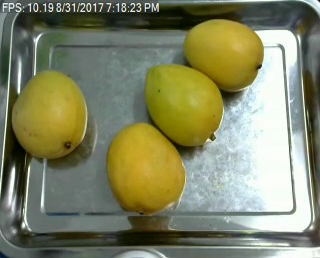Mango: (104, 122, 183, 214), (11, 70, 89, 158), (143, 64, 223, 143), (182, 17, 266, 91)
